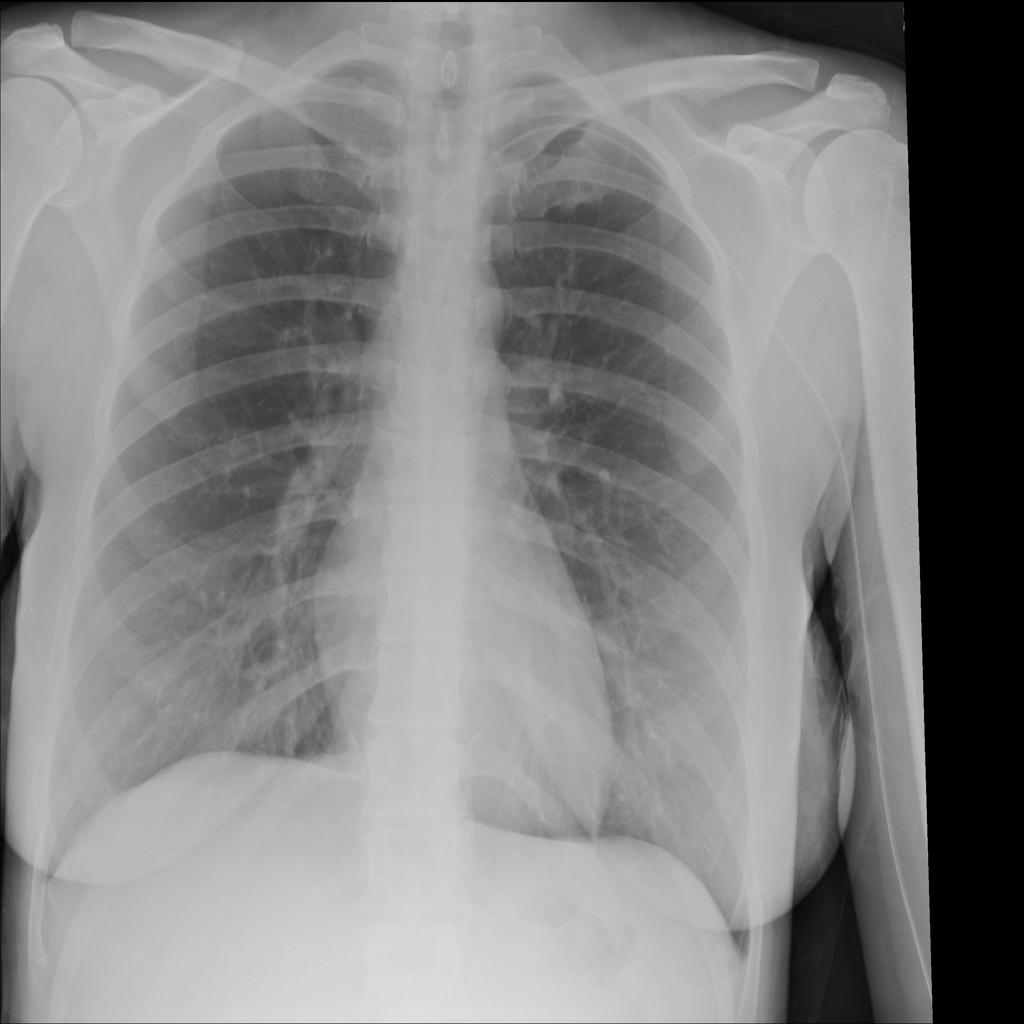nodule: (579, 599, 643, 676)
